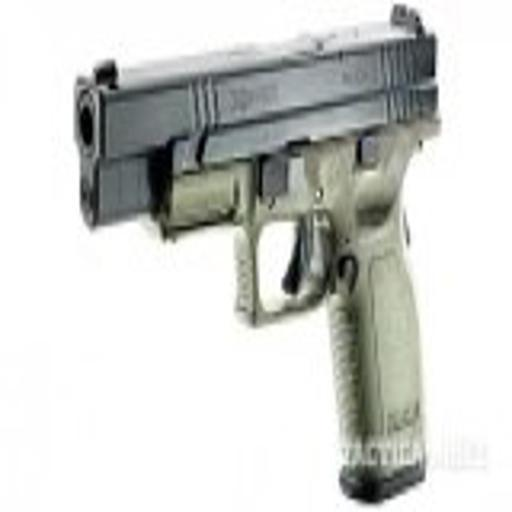Handgun: (66, 3, 447, 502)
